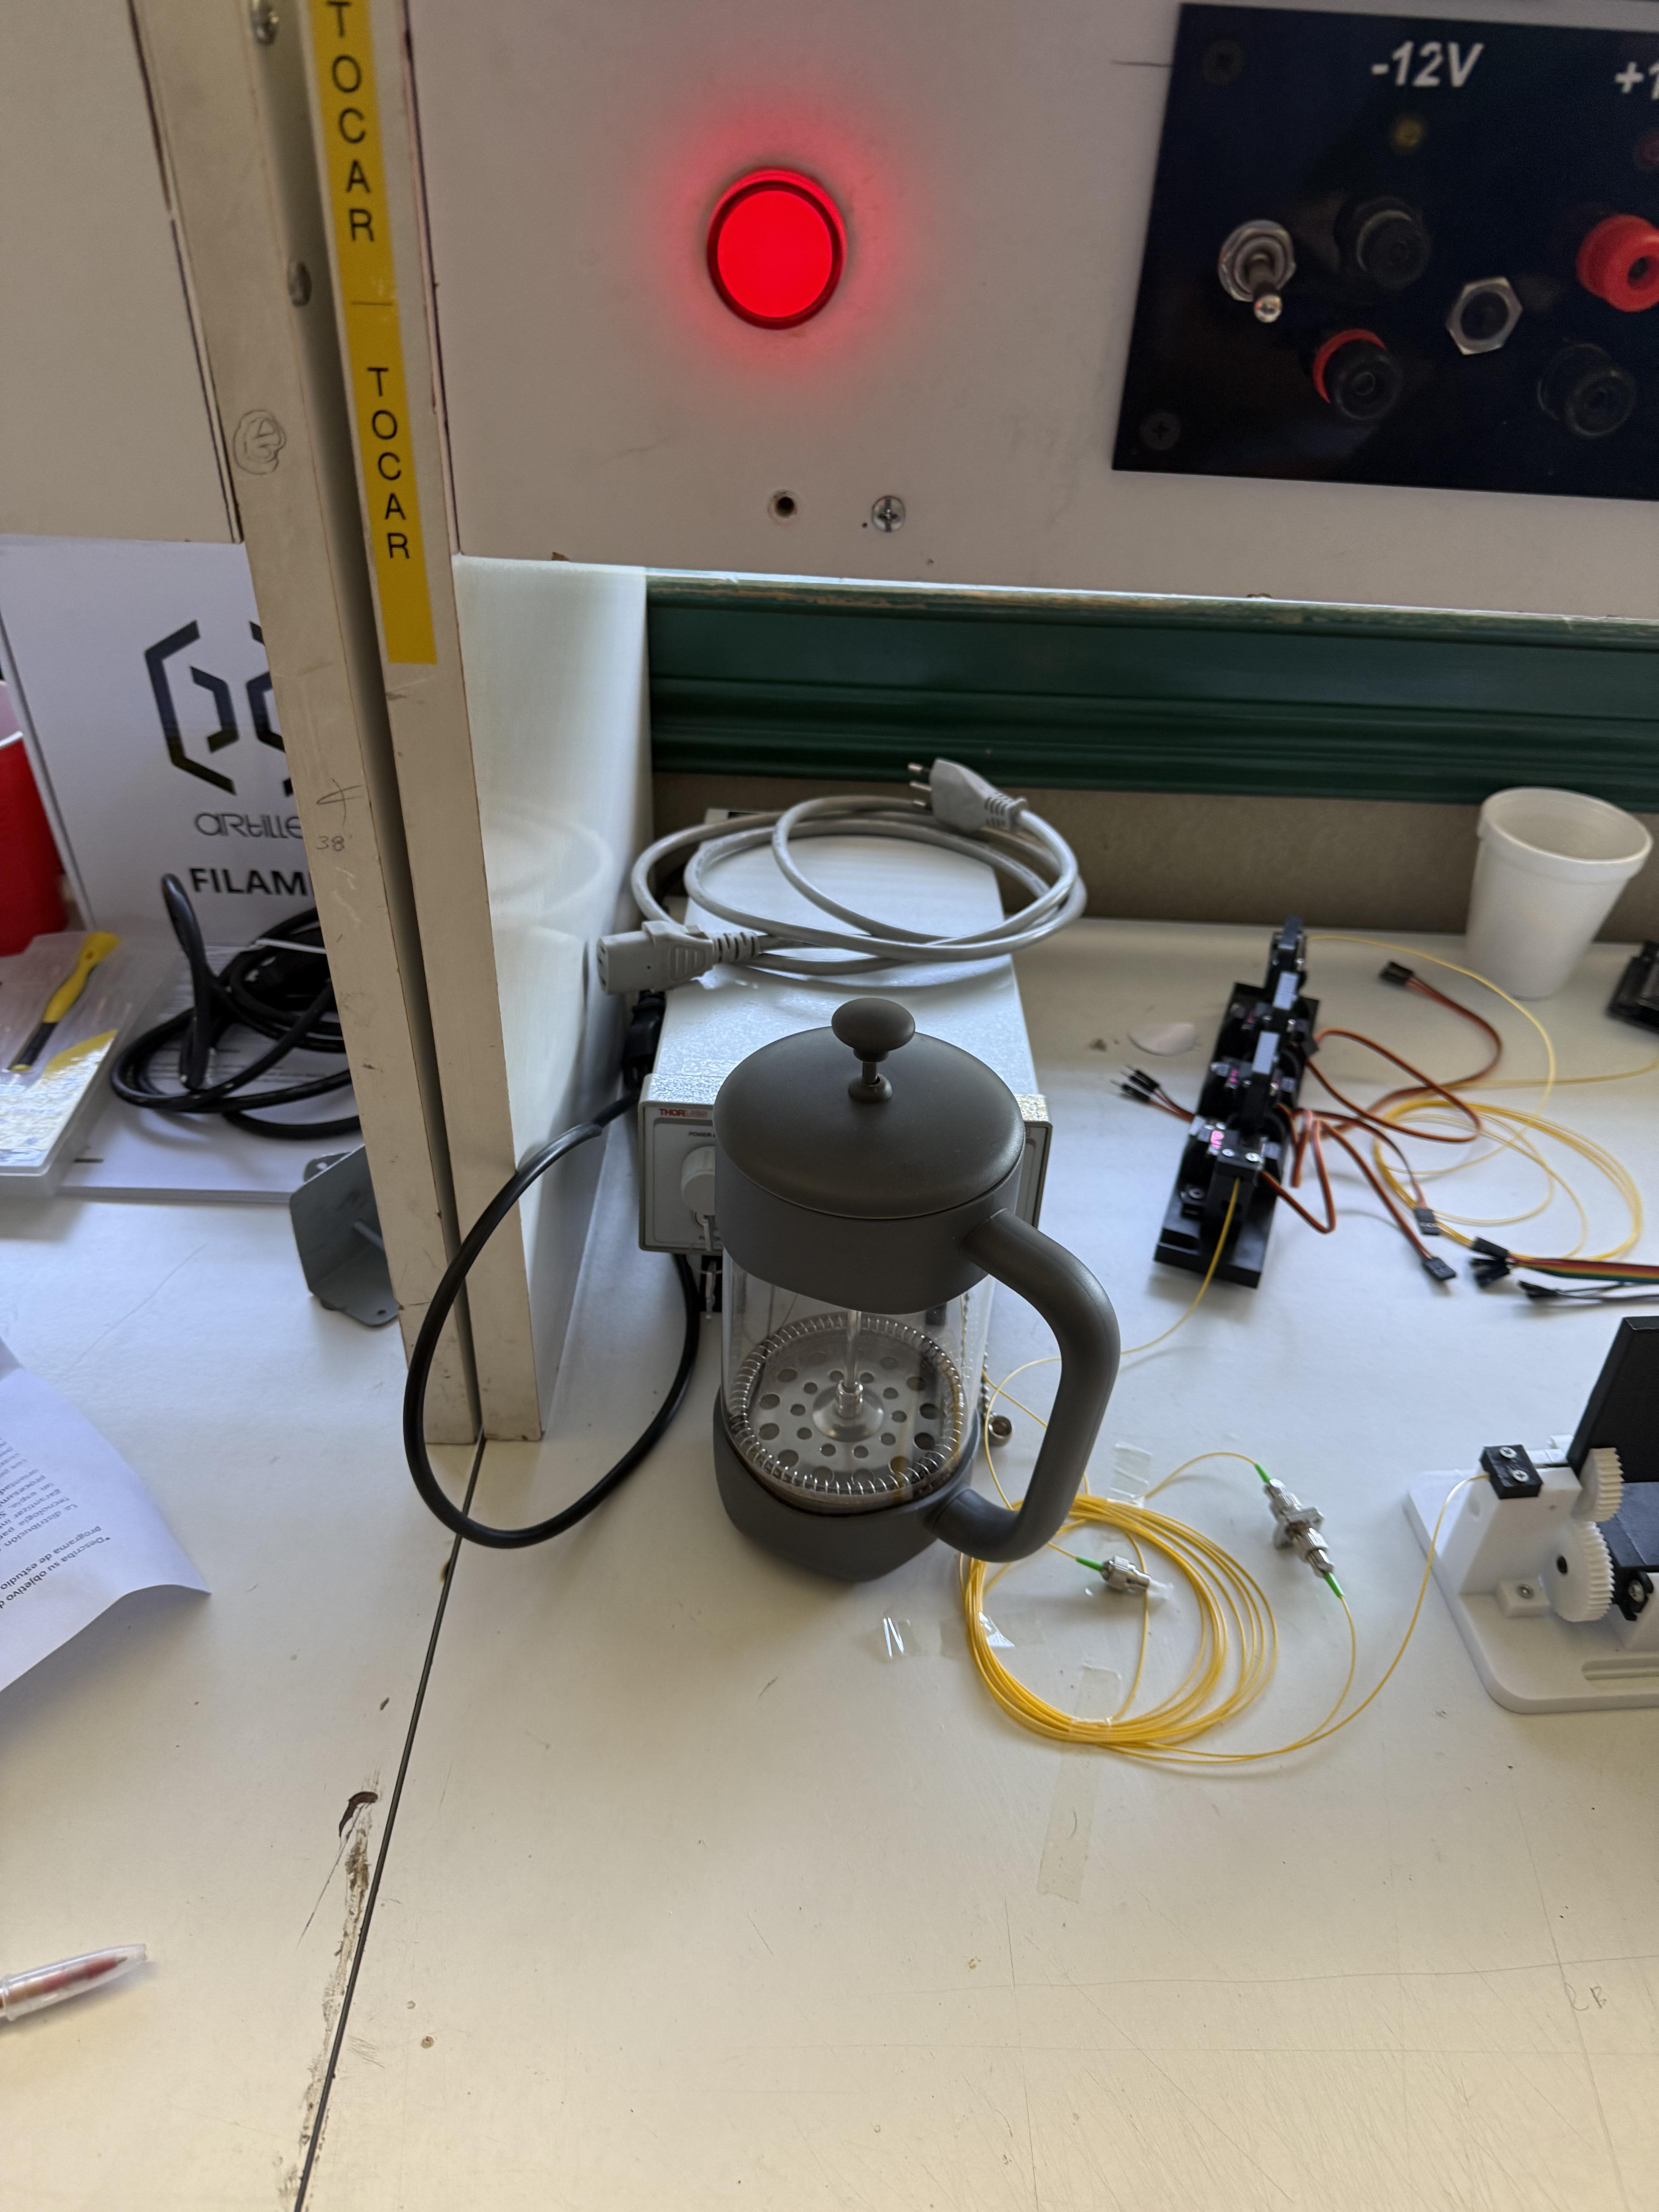laser: (608, 786, 1112, 1348)
paddle_polarization_controller: (1112, 902, 1378, 1355)
